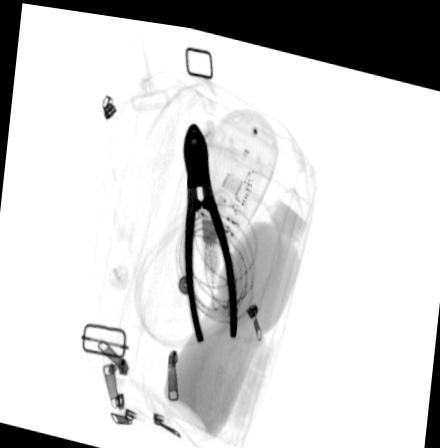Pliers: (182, 114, 237, 336)
